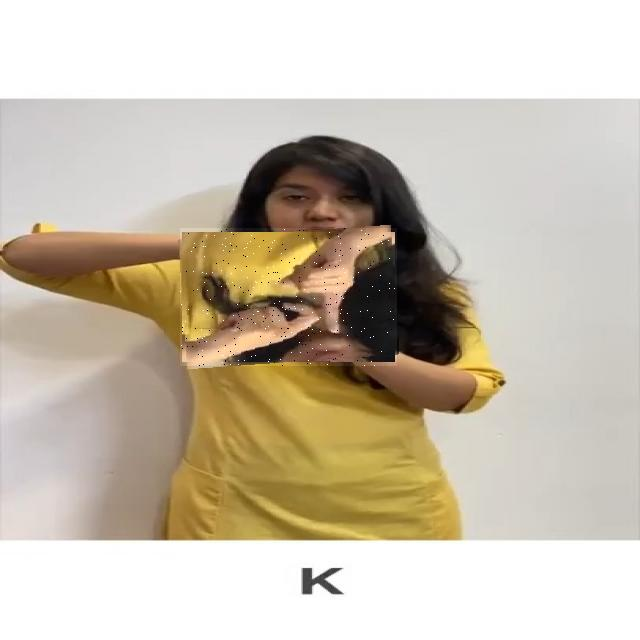K: (180, 228, 397, 366)
